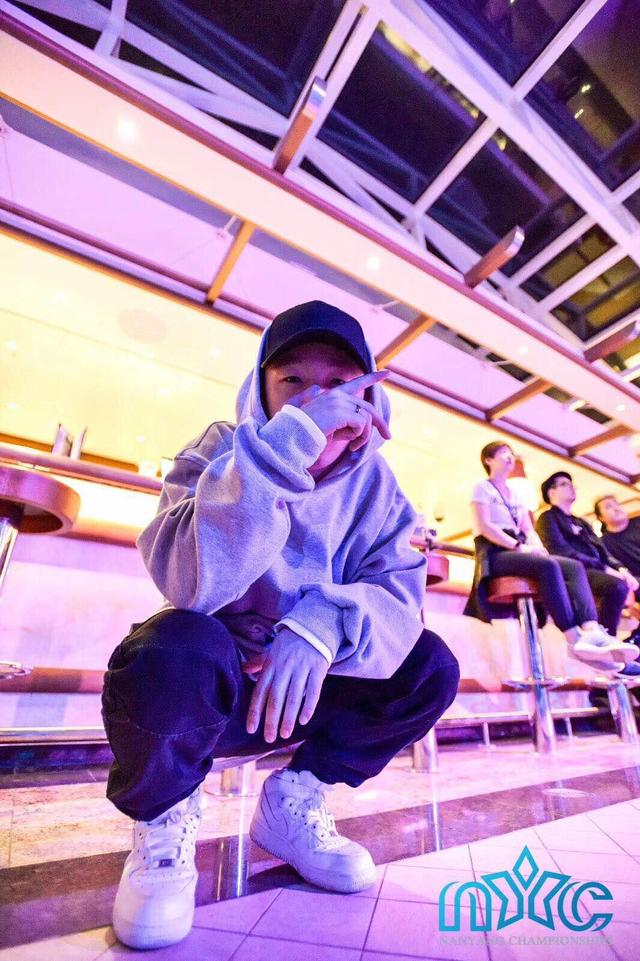handsup: (86, 303, 429, 945)
